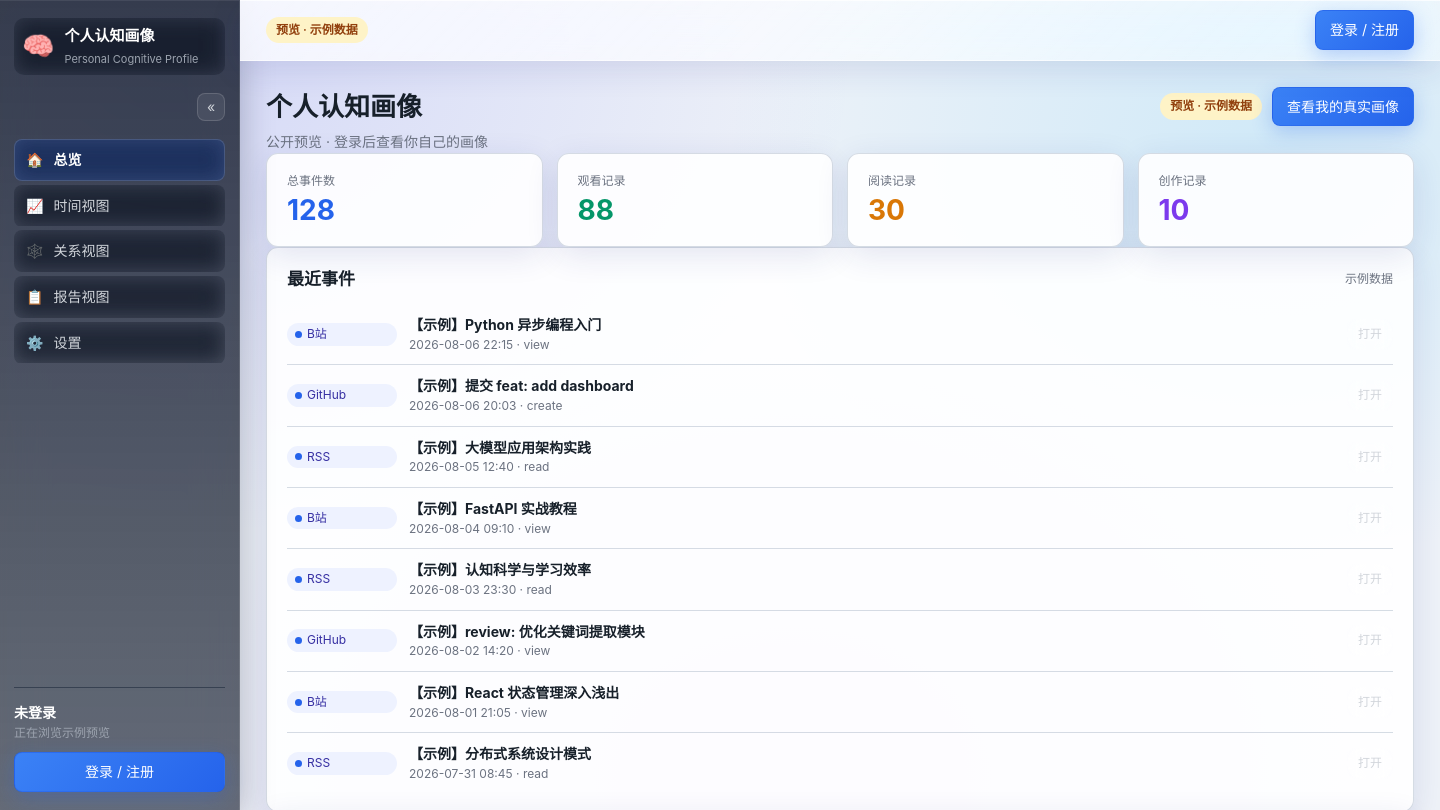
it: 登录 / 注册 › 右上角打开登录弹窗，登录后进入真实数据态并显示账号
Step 1. Click the button "登录 / 注册" below "正在浏览示例预览" → click(120, 772), box [14, 752, 225, 792]
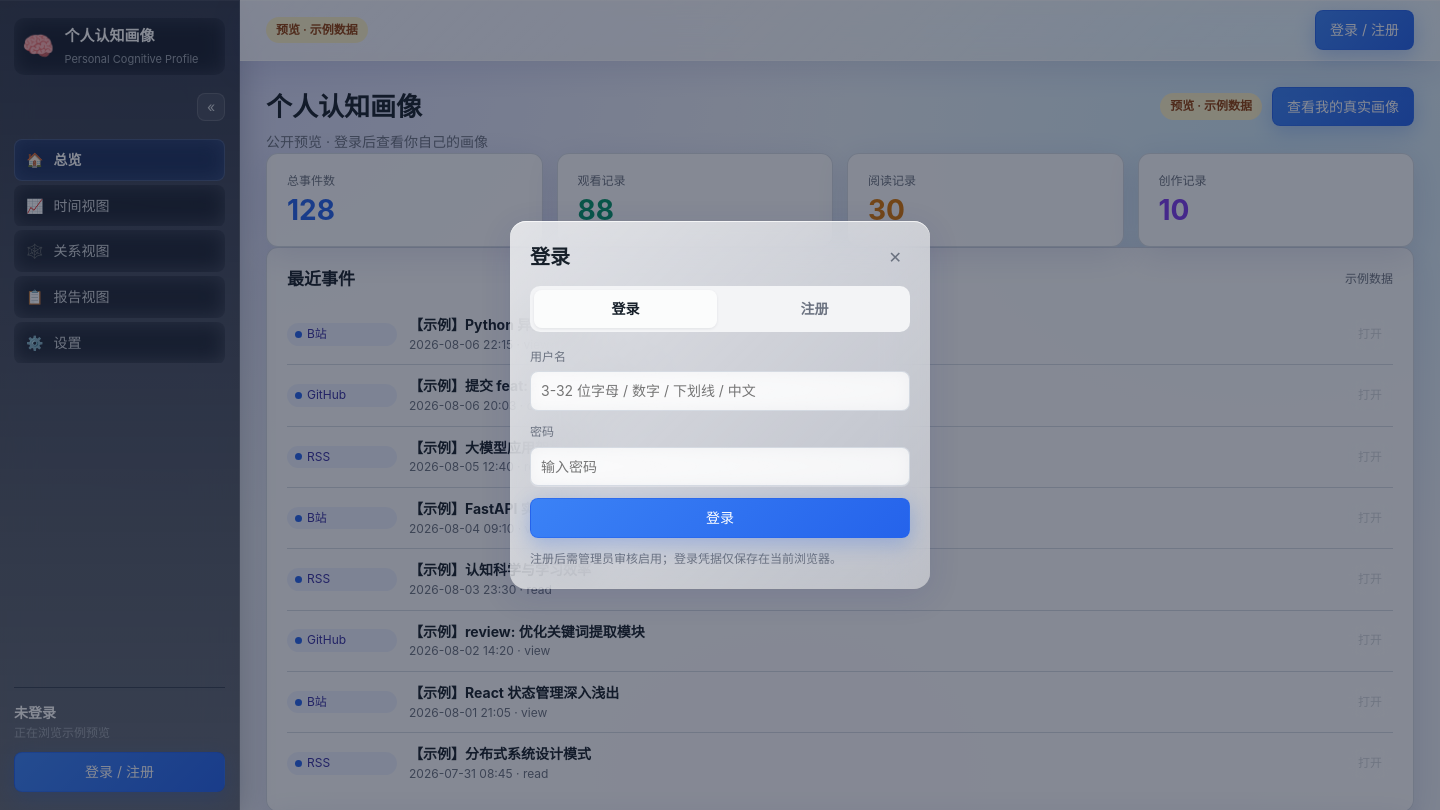
Step 2. Type "alice" into the field labelled "用户名" → (720, 391), box [530, 371, 910, 411]
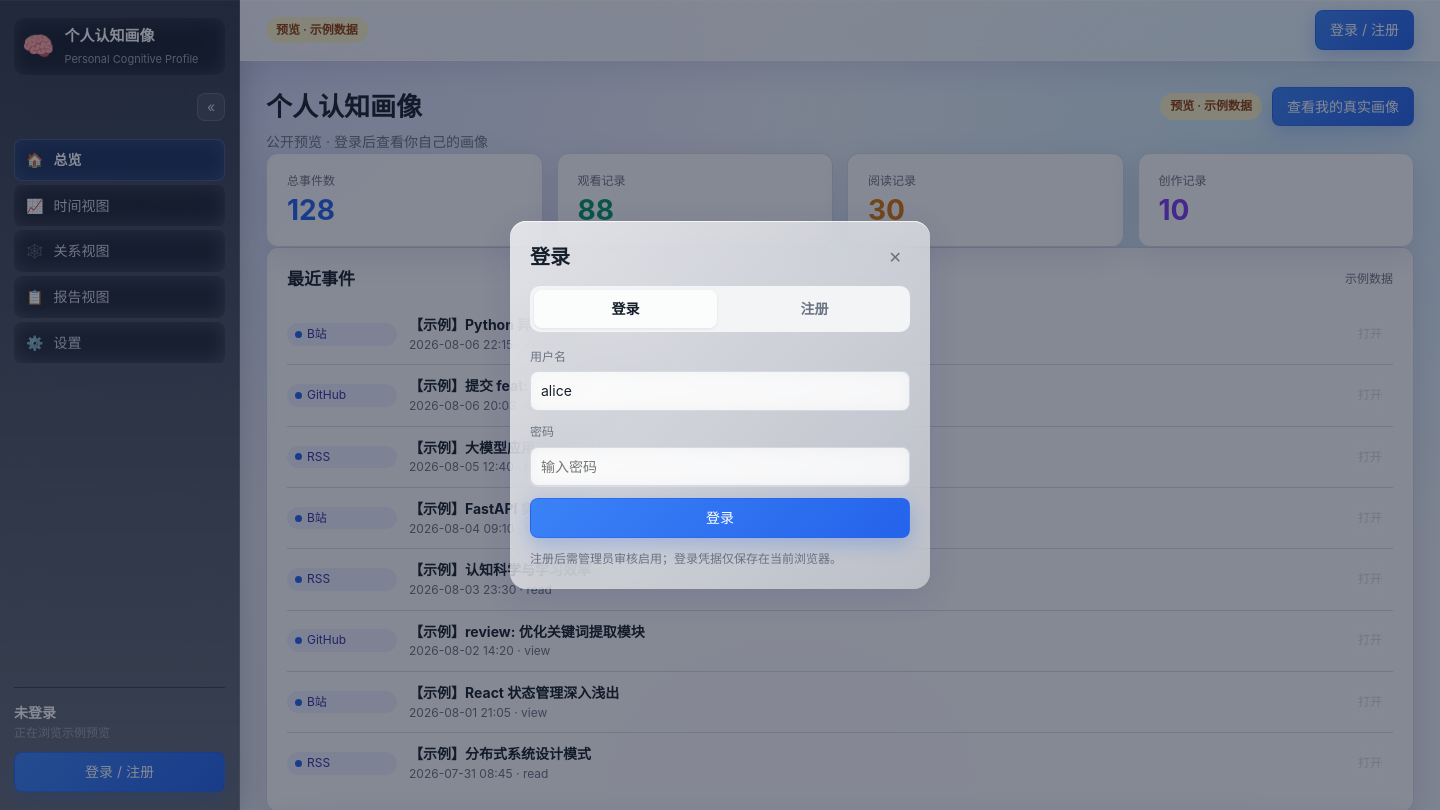
Step 3. Type "alice-pass-123" into the password field labelled "密码" → (720, 467), box [530, 447, 910, 486]
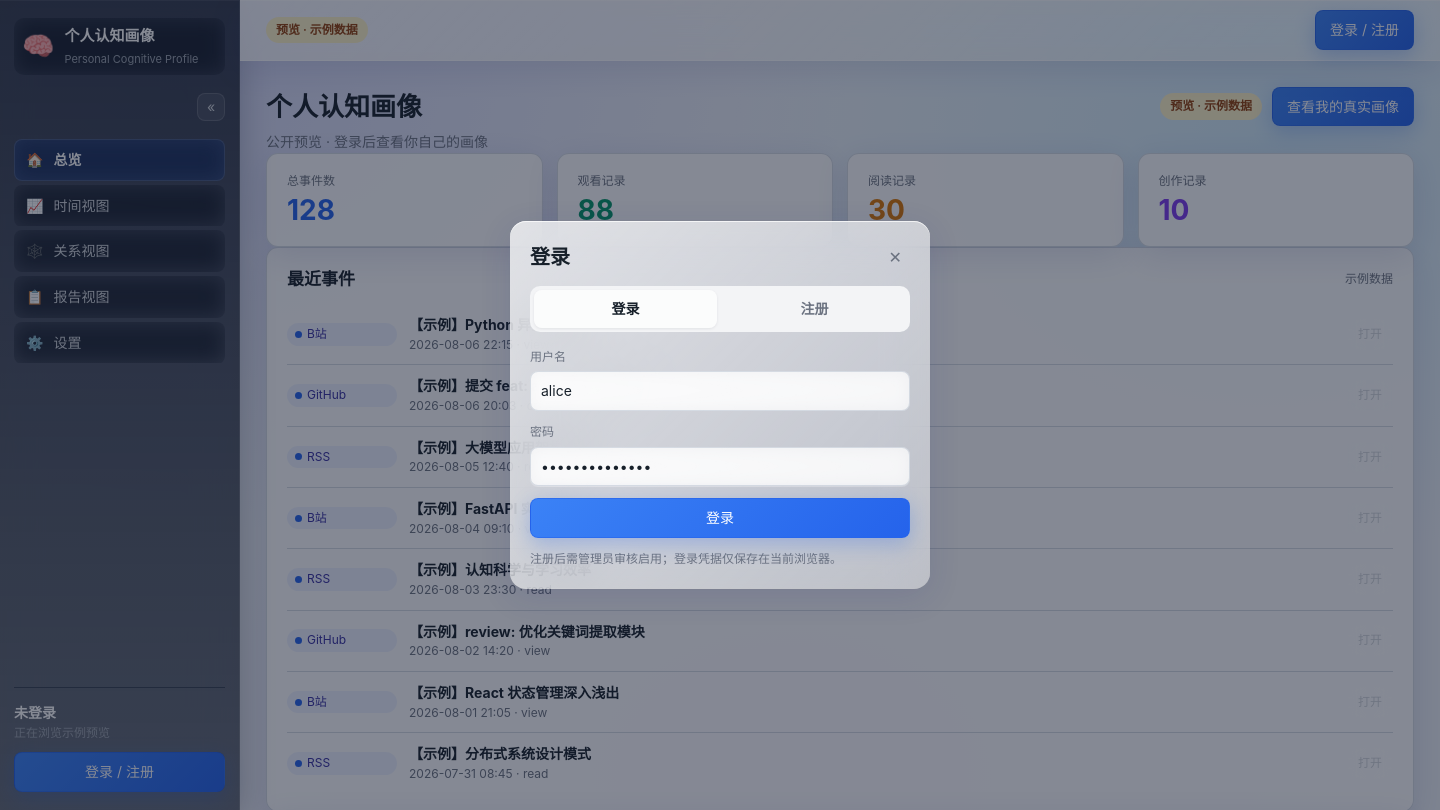
Step 4. Click the button with test id "auth-submit" → click(720, 518), box [530, 498, 910, 538]
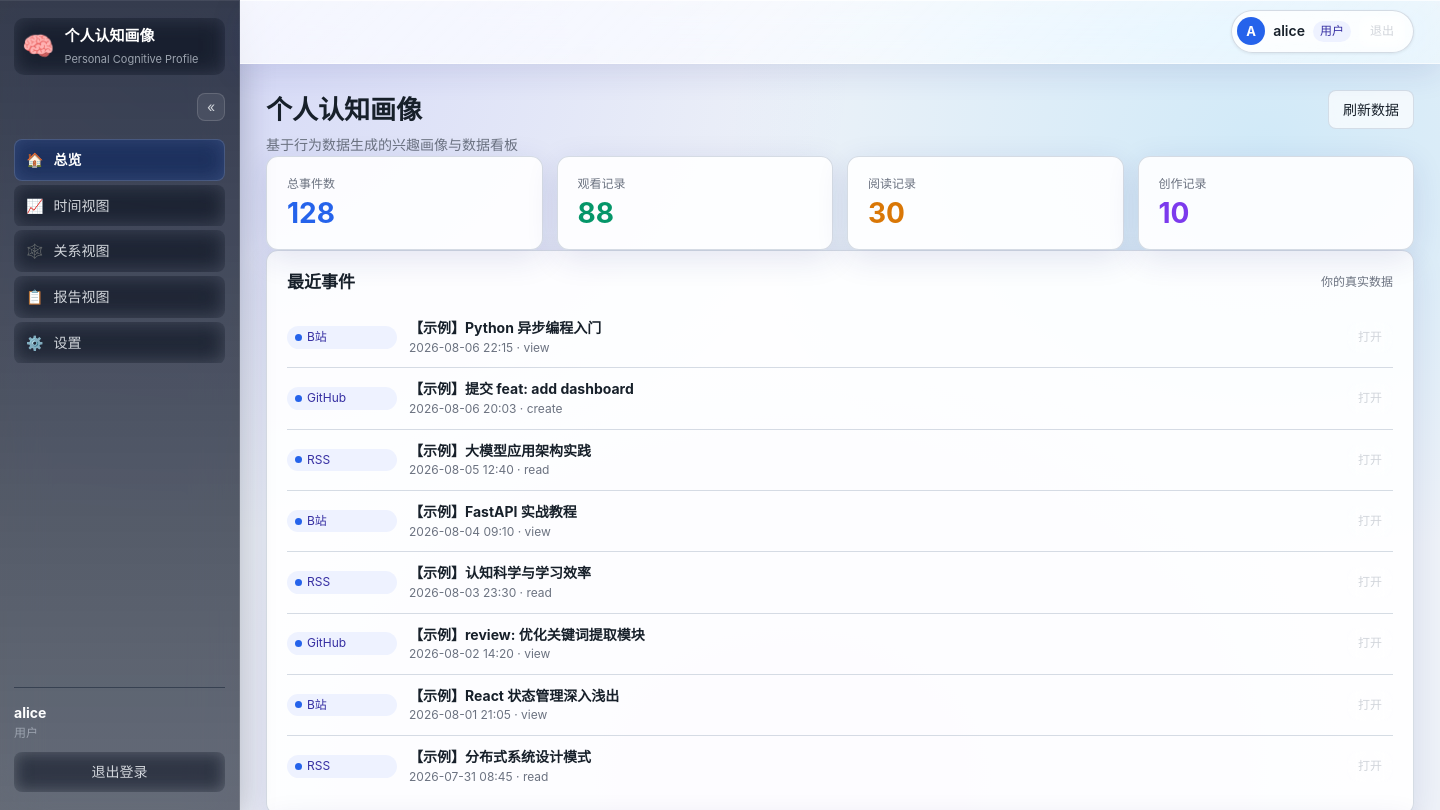
Now the text "预览 · 示例数据" is gone
